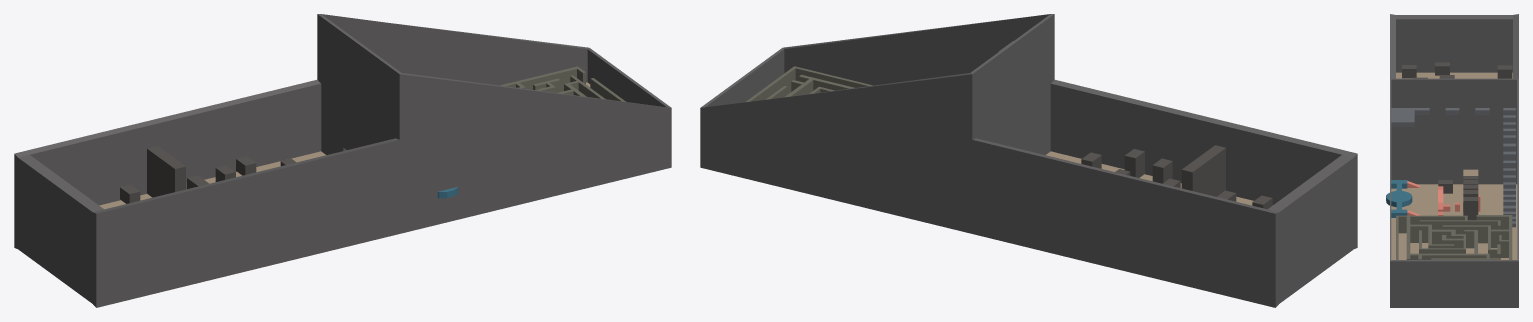
The model's file is test map.fbx.
The picture shows the model from 3 angles, left to right: view 1: azimuth 30°, elevation 25°; view 2: azimuth 150°, elevation 25°; view 3: azimuth 270°, elevation 25°; orthographic projection. The views are drawn at different scales.
Parts seen in each view (by area): view 1: Plane, Cube.003, Cube.021; view 2: Plane, Cube.003, Cube.021, Cube.027, Cube.018, Cube.015; view 3: Plane, Cube.003, Cube.002, Cube, Cube.009, Cube.004, Cube.022, Cube.030, Cube.024, Cube.005, Cube.008.
Part boxes in pixels (x1=…): Plane: x1=14, y1=14, x2=671, y2=307; Cube.003: x1=500, y1=66, x2=625, y2=101; Cube.021: x1=147, y1=146, x2=208, y2=197; Plane: x1=700, y1=14, x2=1357, y2=307; Cube.003: x1=745, y1=66, x2=872, y2=102; Cube.021: x1=1163, y1=151, x2=1216, y2=196; Cube.027: x1=1124, y1=149, x2=1144, y2=177; Cube.018: x1=1207, y1=145, x2=1225, y2=196; Cube.015: x1=1152, y1=158, x2=1172, y2=183; Plane: x1=1390, y1=14, x2=1518, y2=307; Cube.003: x1=1396, y1=215, x2=1512, y2=259; Cube.002: x1=1391, y1=108, x2=1515, y2=227; Cube: x1=1386, y1=180, x2=1412, y2=217; Cube.009: x1=1463, y1=197, x2=1478, y2=220; Cube.004: x1=1438, y1=186, x2=1480, y2=215; Cube.022: x1=1497, y1=65, x2=1512, y2=78; Cube.030: x1=1402, y1=65, x2=1416, y2=78; Cube.024: x1=1435, y1=62, x2=1449, y2=75; Cube.005: x1=1438, y1=180, x2=1452, y2=193; Cube.008: x1=1463, y1=190, x2=1478, y2=196.
Bounding box in the file's own units: 24920 × 6614 × 6351.
Materials: 1 (1 with a texture image).
